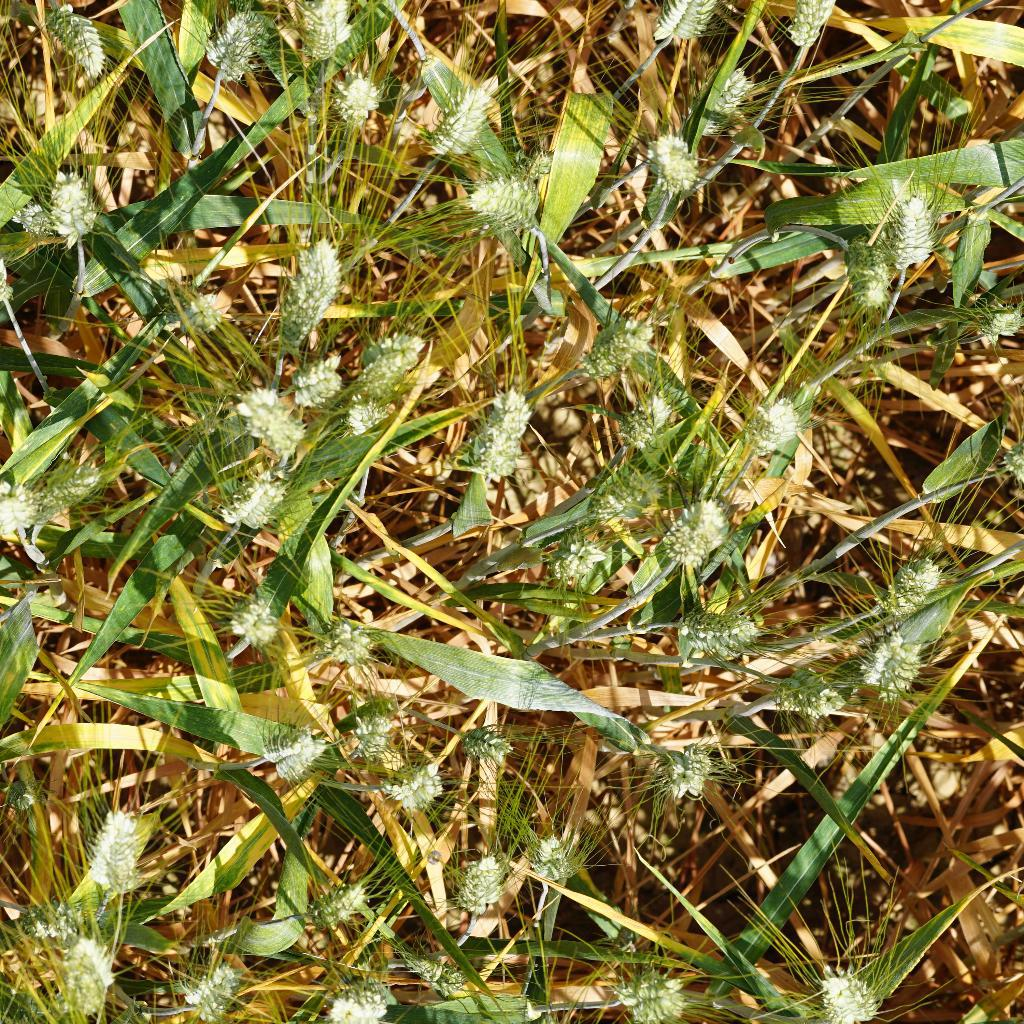0-0: (271, 230, 346, 346), (447, 370, 530, 474), (557, 306, 654, 387), (855, 542, 953, 619), (31, 446, 121, 529), (455, 163, 552, 238), (206, 459, 301, 534), (587, 449, 665, 534), (311, 597, 395, 675), (937, 276, 1023, 352), (874, 175, 938, 276), (84, 803, 149, 900), (34, 0, 114, 78), (425, 77, 496, 164), (200, 0, 269, 88), (828, 231, 901, 314), (661, 492, 736, 571), (681, 594, 762, 666), (553, 524, 624, 606), (56, 932, 129, 1011), (40, 150, 105, 238), (609, 370, 677, 453), (351, 326, 430, 397), (859, 623, 922, 709), (768, 665, 856, 725), (611, 956, 688, 1024), (808, 942, 871, 1024), (728, 387, 806, 453), (370, 750, 456, 808), (335, 384, 411, 448), (178, 955, 246, 1024), (239, 380, 303, 451), (447, 843, 508, 916), (291, 0, 358, 66), (526, 825, 591, 893), (453, 702, 516, 772), (707, 63, 765, 139), (256, 722, 328, 783), (346, 688, 413, 750), (171, 275, 238, 337), (657, 0, 731, 55), (320, 64, 382, 129), (776, 0, 852, 52), (286, 340, 342, 410), (638, 129, 697, 194), (225, 583, 281, 651), (661, 736, 720, 800), (392, 941, 462, 994), (307, 875, 366, 933), (16, 896, 81, 944), (0, 478, 30, 553), (322, 993, 392, 1024), (183, 407, 227, 446), (0, 786, 47, 821)
